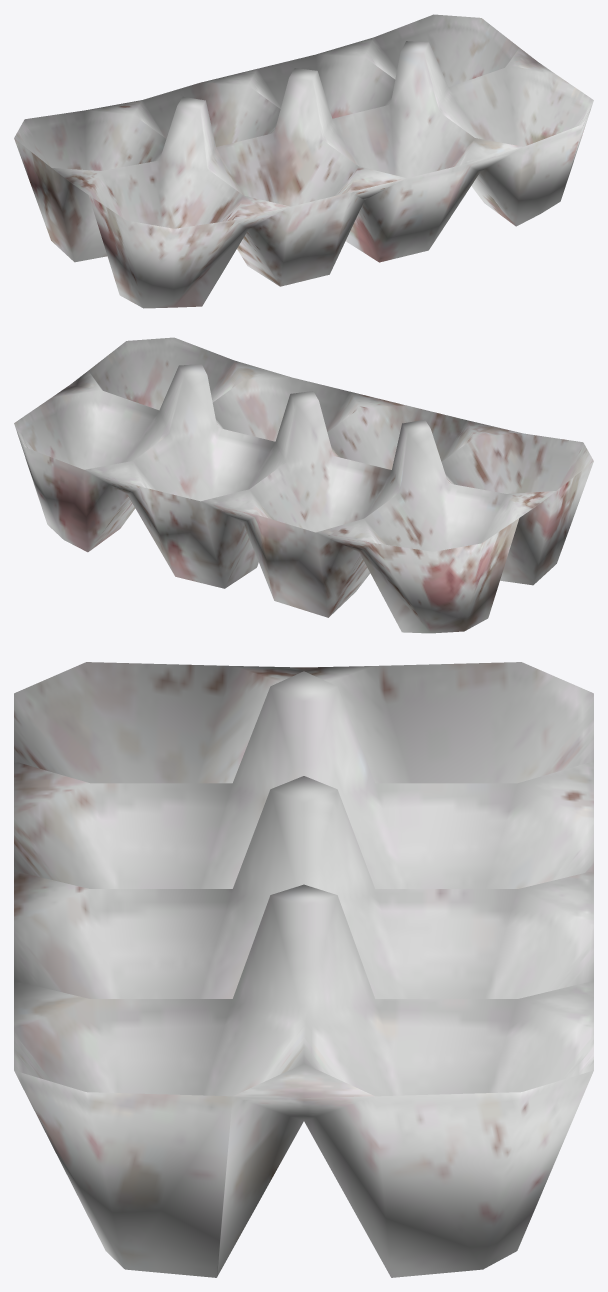
The model's file is SM_TrashScrapCase_01_A.fbx.
3 renders of one model, top to bottom at view 1: azimuth 30°, elevation 25°; view 2: azimuth 150°, elevation 25°; view 3: azimuth 270°, elevation 25°, orthographic. The views are drawn at different scales.
Visible parts, largest first — view 1: SM_TrashScrapCase_01_A; view 2: SM_TrashScrapCase_01_A; view 3: SM_TrashScrapCase_01_A.
Part boxes in pixels (x1=…): SM_TrashScrapCase_01_A: x1=14, y1=14, x2=593, y2=308; SM_TrashScrapCase_01_A: x1=14, y1=337, x2=593, y2=633; SM_TrashScrapCase_01_A: x1=14, y1=662, x2=593, y2=1277.
Size of the model in its own units: 29.67 by 16.44 by 9.83.
Materials: 1 (1 with a texture image).
